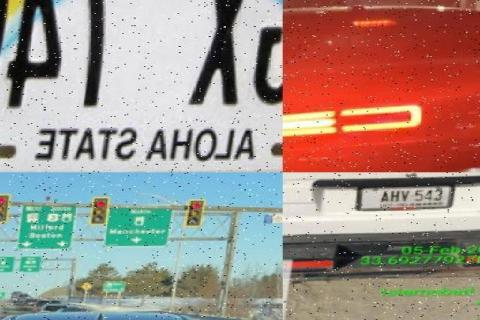LicensePlate: (0, 0, 283, 136), (364, 184, 460, 216)
